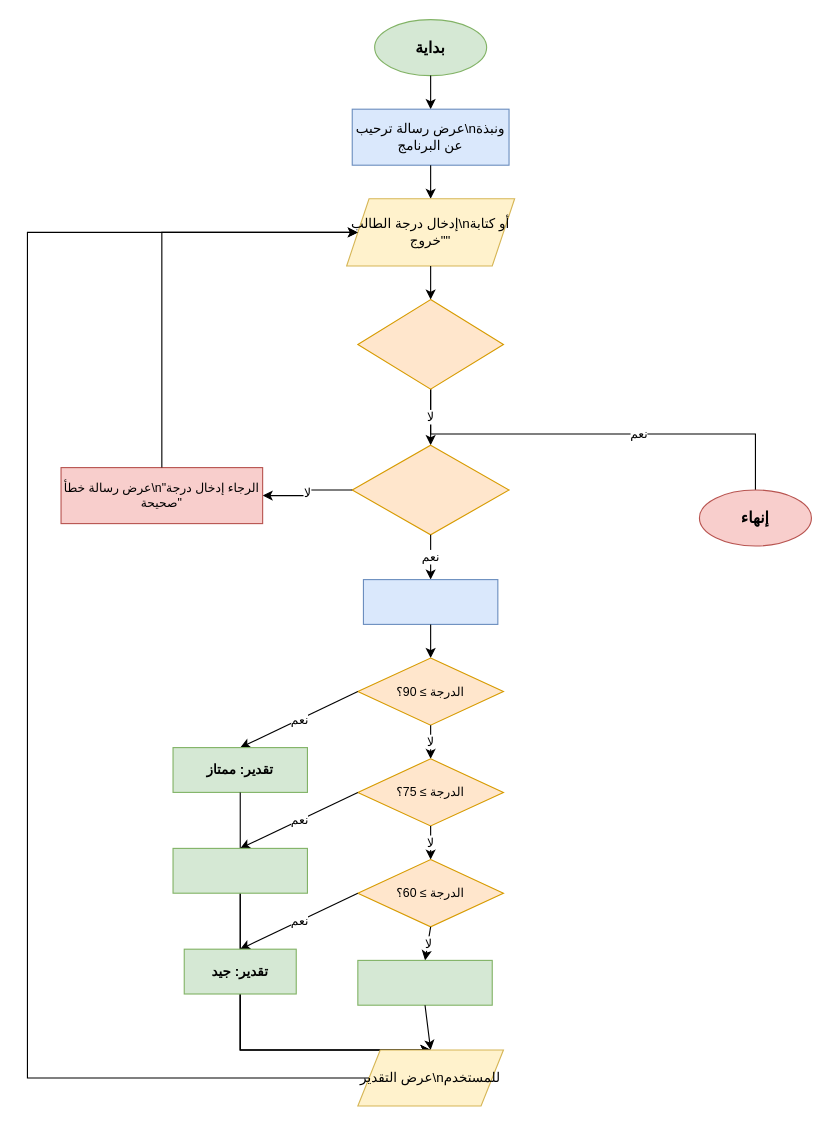
This 831x1126 diagram has some shape labels left out. Each missing label, with the centre of its shape:
تقدير: جيد جدًا: point 239,870
تقدير: ضعيف: point 424,982
تقييم التقدير: point 430,601
هل الإدخال\n= "خروج"؟: point 430,343
هل الدرجة\nرقمية وفي\nالنطاق 0-100؟: point 430,489
